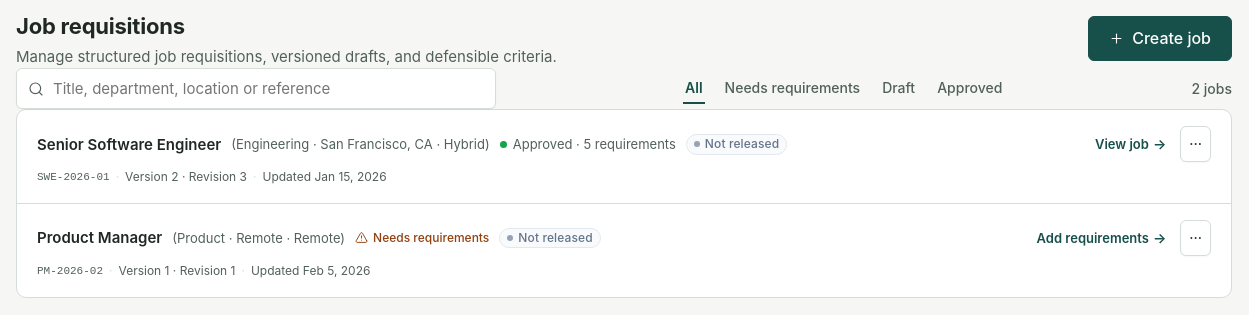
Test: Phase 3E.3: Jobs Directory Polish & ATS Integration › Jobs Directory Polish › updates live filtered count on search and filtering
The image size is (1249, 315).
Type "Product" into the field with placeholder "Title, department, location or reference" at (256, 89), box [16,68,496,109]
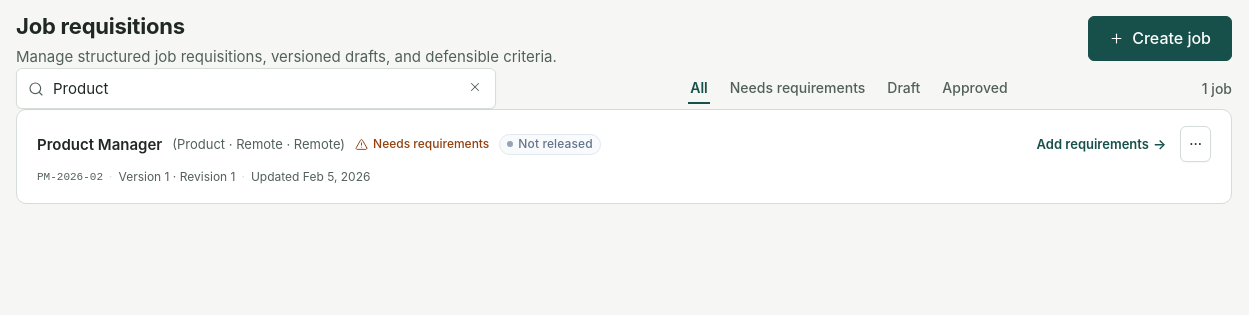
Expected: the text "Product Manager" is shown, [37,135,162,154]
Expected: the text with class "directory-count-badge" reads "1 job", [1202,78,1232,100]
Expected: the text "Senior Software Engineer" is gone
